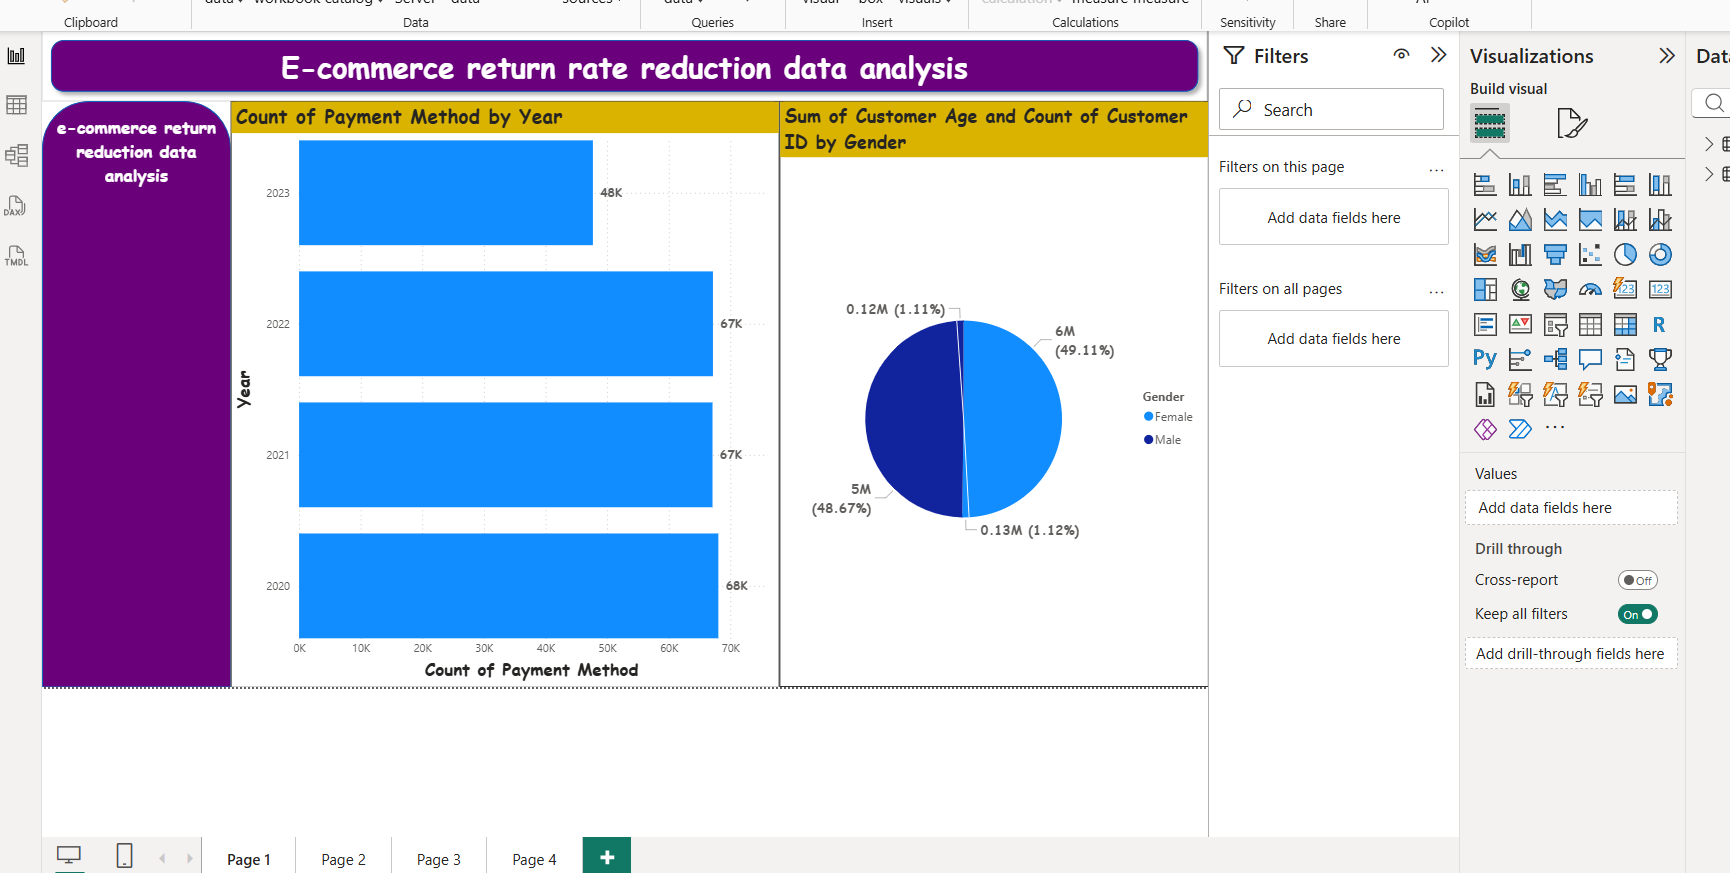

The page's visual inventory and layout, read from the dashboard file:
{"tool":"powerbi","page":{"name":"Page 1","canvas":[1280,720],"ordinal":0},"visuals":[{"type":"shape","box":[0,0,1279.6,76.8],"z":0},{"type":"shape","box":[0,76.8,207.4,643.6],"z":1000},{"type":"barChart","fields":{"Y":["CountNonNull(ecommerce_customer_data_custom_ratios.Payment Method)"],"Category":["ecommerce_customer_data_custom_ratios.Purchase Date.Variation.Date Hierarchy.Year","ecommerce_customer_data_custom_ratios.Purchase Date.Variation.Date Hierarchy.Quarter","ecommerce_customer_data_custom_ratios.Purchase Date.Variation.Date Hierarchy.Month","ecommerce_customer_data_custom_ratios.Purchase Date.Variation.Date Hierarchy.Day"]},"box":[207.4,76.8,602.2,643.6],"z":2000},{"type":"pieChart","fields":{"Y":["Sum(ecommerce_customer_data_custom_ratios.Customer Age)","CountNonNull(ecommerce_customer_data_custom_ratios.Customer ID)"],"Category":["ecommerce_customer_data_custom_ratios.Gender"]},"box":[809,77,471,643],"z":3000}]}

Visuals, with their boxes on the page's 1280x720 design canvas (x1, y1, x2, y2). These are canvas units, not pixel positions in the 1730x873 screenshot, which may show the page scaled, cropped or inside an application window:
shape: {"left": 0, "top": 0, "right": 1280, "bottom": 77}
shape: {"left": 0, "top": 77, "right": 207, "bottom": 720}
barChart - CountNonNull(ecommerce_customer_data_custom_ratios.Payment Method) x ecommerce_customer_data_custom_ratios.Purchase Date.Variation.Date Hierarchy.Year: {"left": 207, "top": 77, "right": 810, "bottom": 720}
pieChart - Sum(ecommerce_customer_data_custom_ratios.Customer Age) x CountNonNull(ecommerce_customer_data_custom_ratios.Customer ID): {"left": 809, "top": 77, "right": 1280, "bottom": 720}
